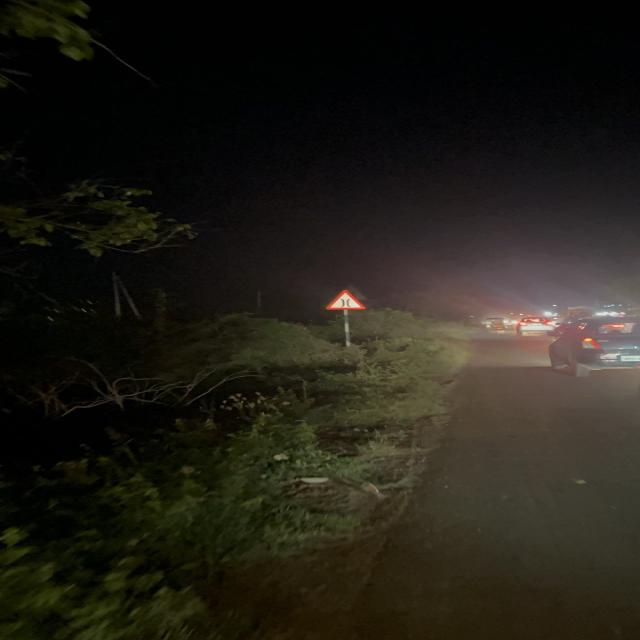Narrow_Bridge: (325, 288, 369, 312)
